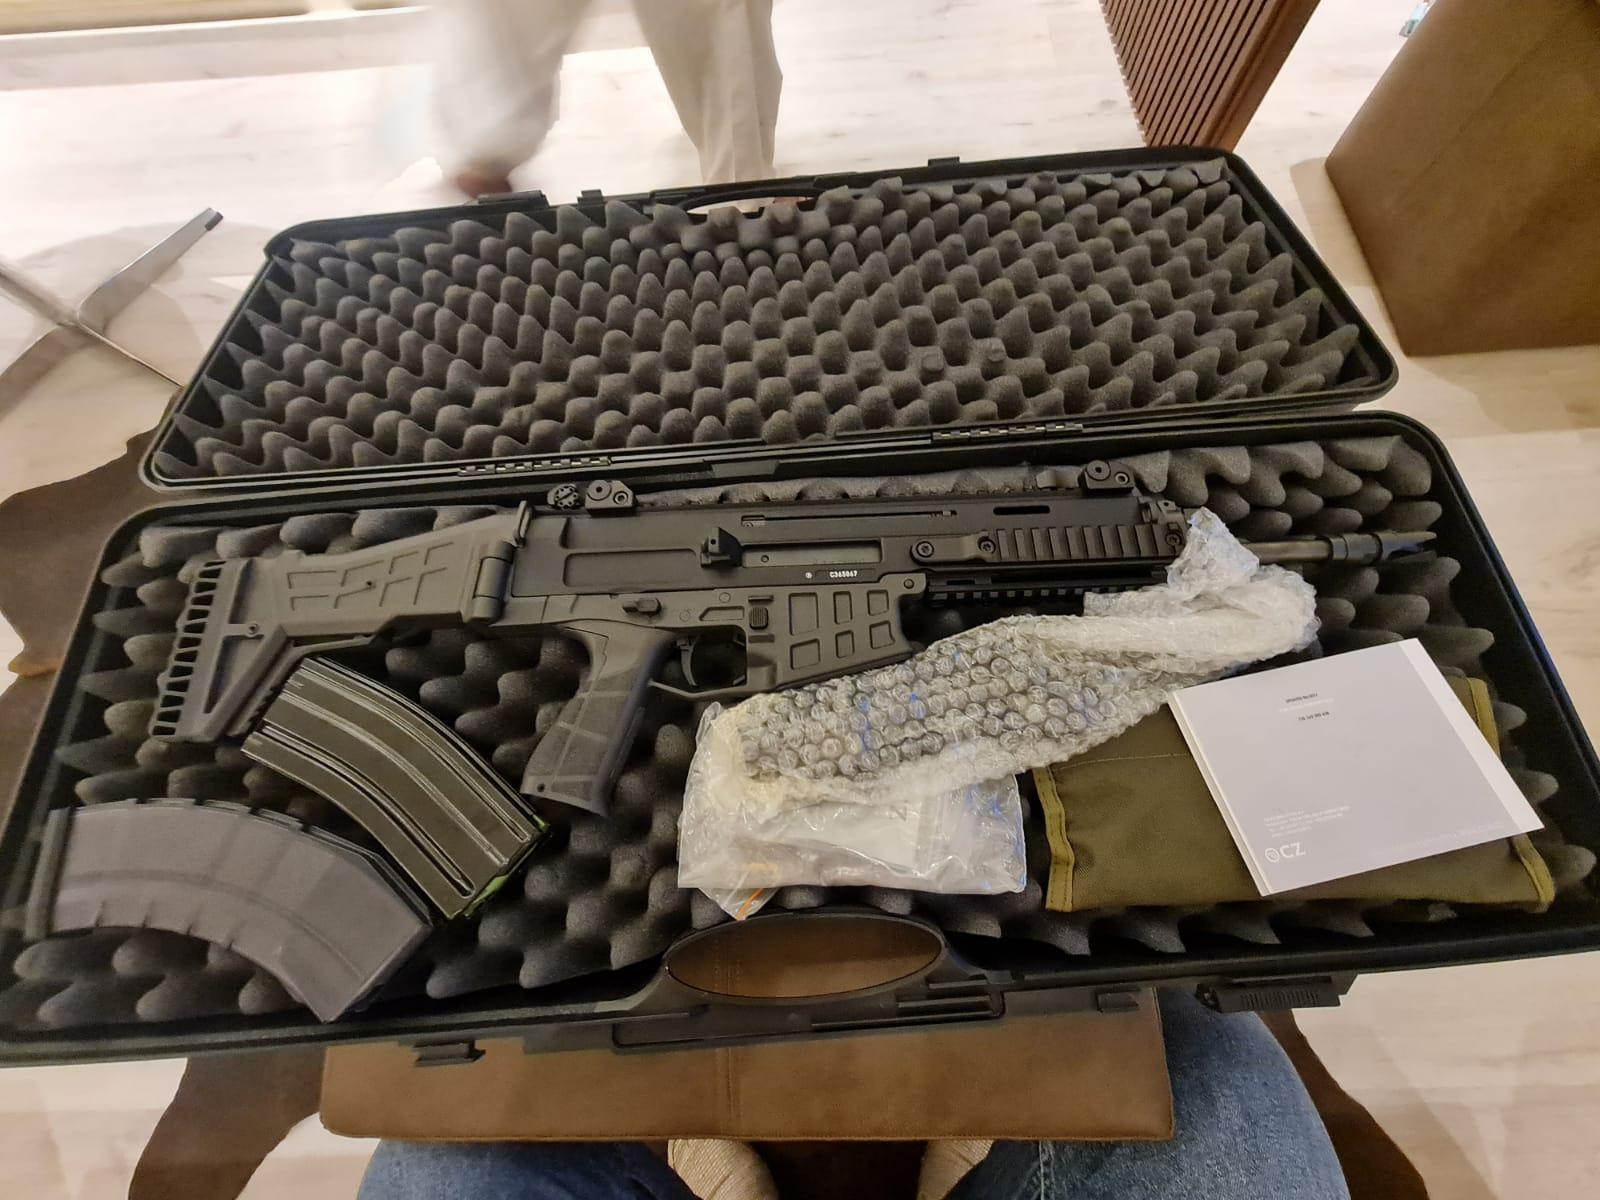weapon: (136, 463, 1437, 824)
